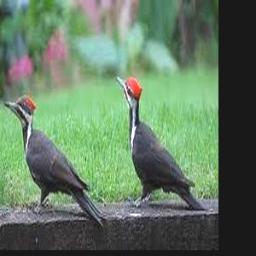Woodpecker: (3, 94, 106, 226), (115, 75, 205, 209)
